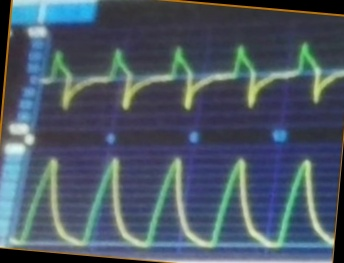Normal Flow: (42, 40, 344, 115)
Normal Volume: (12, 154, 333, 250)
